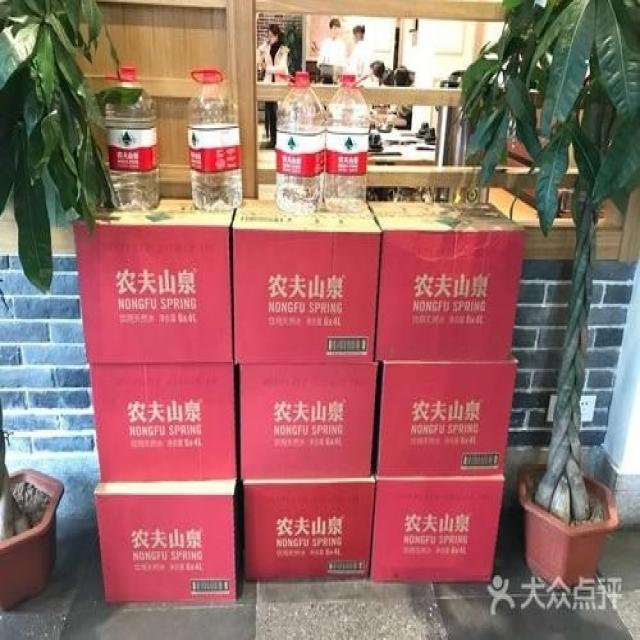box: (72, 198, 234, 364), (232, 198, 381, 365), (369, 201, 525, 360), (92, 476, 236, 606), (90, 362, 238, 483), (239, 362, 378, 481), (376, 358, 518, 474), (370, 474, 506, 582), (243, 478, 375, 580)
